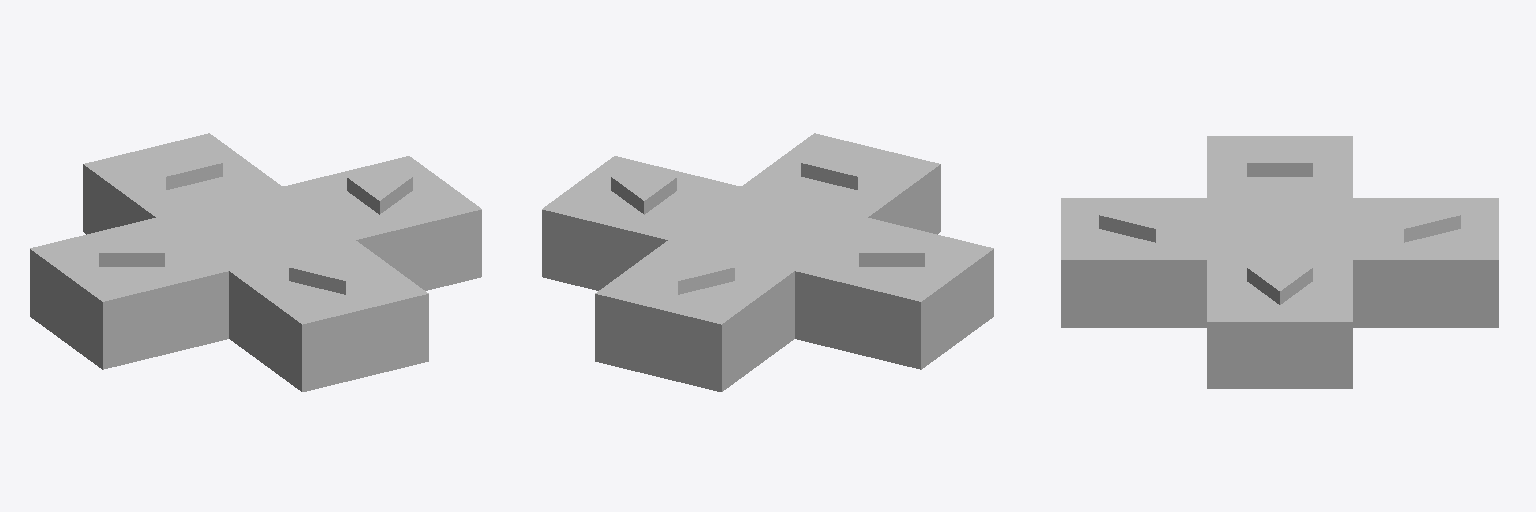
The model's file is game.obj.
The picture shows the model from 3 angles: view 1: azimuth 30°, elevation 25°; view 2: azimuth 150°, elevation 25°; view 3: azimuth 270°, elevation 25°; orthographic projection.
Parts seen in each view (by area): view 1: cpgame3.json; view 2: cpgame3.json; view 3: cpgame3.json.
Boxes of the visible parts, x1,y1,x2,y2 form: cpgame3.json: [30, 133, 481, 391]; cpgame3.json: [542, 133, 993, 391]; cpgame3.json: [1061, 136, 1498, 388].
Bounding box in the file's own units: 1.76 × 0.3611 × 1.76.